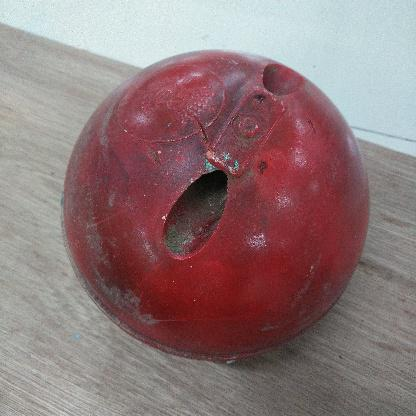red_buoy: (58, 42, 378, 368)
